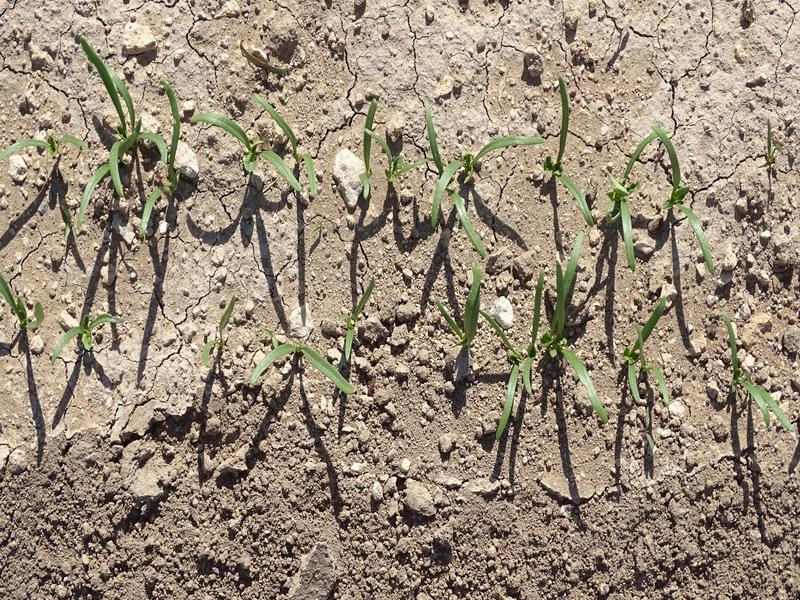Espinaca: (438, 262, 605, 423), (57, 39, 192, 230), (549, 133, 723, 272), (357, 108, 497, 241), (254, 277, 378, 392), (202, 88, 317, 203), (714, 322, 792, 430), (619, 304, 676, 403), (52, 308, 118, 363), (198, 297, 242, 360), (2, 279, 45, 330)
